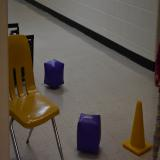cone: (123, 100, 152, 156)
cube: (77, 113, 101, 154), (44, 59, 64, 89)
